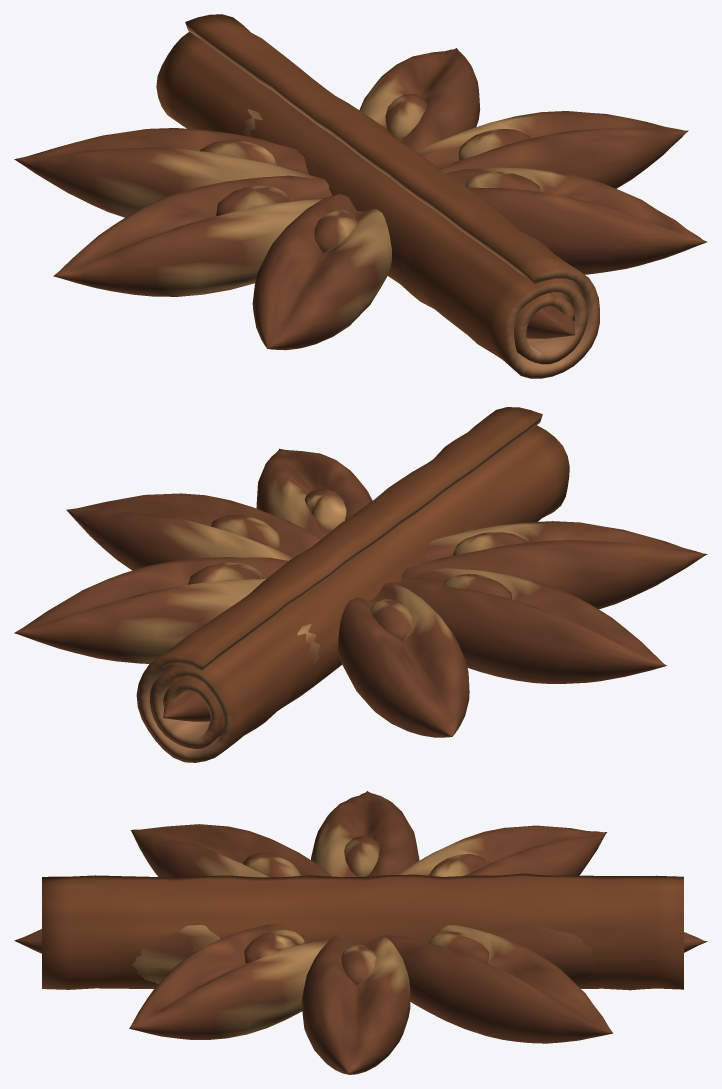
File: spices.glb
The picture shows the model from 3 angles, top to bottom: view 1: azimuth 30°, elevation 25°; view 2: azimuth 150°, elevation 25°; view 3: azimuth 270°, elevation 25°; orthographic projection. The views are drawn at different scales.
Parts seen in each view (by area): view 1: StarAnise, Cinnamon; view 2: StarAnise, Cinnamon; view 3: StarAnise, Cinnamon.
Part boxes in pixels (x1,y1,x2,y2): StarAnise: (14,48,707,350); Cinnamon: (156,14,599,378); StarAnise: (14,448,707,737); Cinnamon: (136,407,569,762); StarAnise: (14,791,707,1074); Cinnamon: (42,873,683,990).
Size of the model in its own units: 1.04 by 0.1807 by 1.08.
